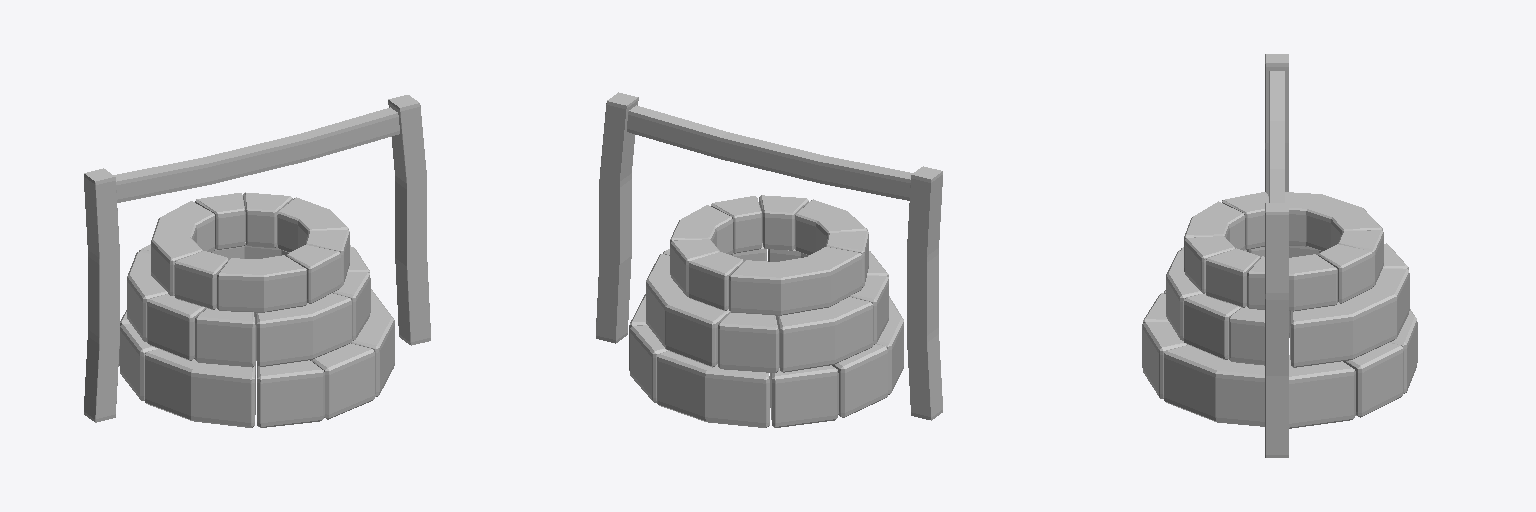
The model's file is poco.obj.
The picture shows the model from 3 angles: view 1: azimuth 30°, elevation 25°; view 2: azimuth 150°, elevation 25°; view 3: azimuth 270°, elevation 25°; orthographic projection.
Parts seen in each view (by area): view 1: Cube.005_Cube.018; view 2: Cube.005_Cube.018; view 3: Cube.005_Cube.018.
Boxes of the visible parts, box(x1,y1,x2,y2) form: Cube.005_Cube.018: box(84, 95, 430, 427); Cube.005_Cube.018: box(596, 92, 942, 427); Cube.005_Cube.018: box(1142, 54, 1417, 457).
Size of the model in its own units: 0.9728 by 0.6672 by 0.6897.